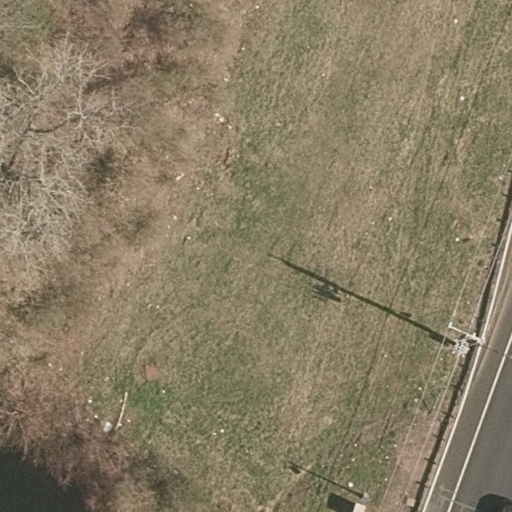DT: (434, 315, 492, 366)
